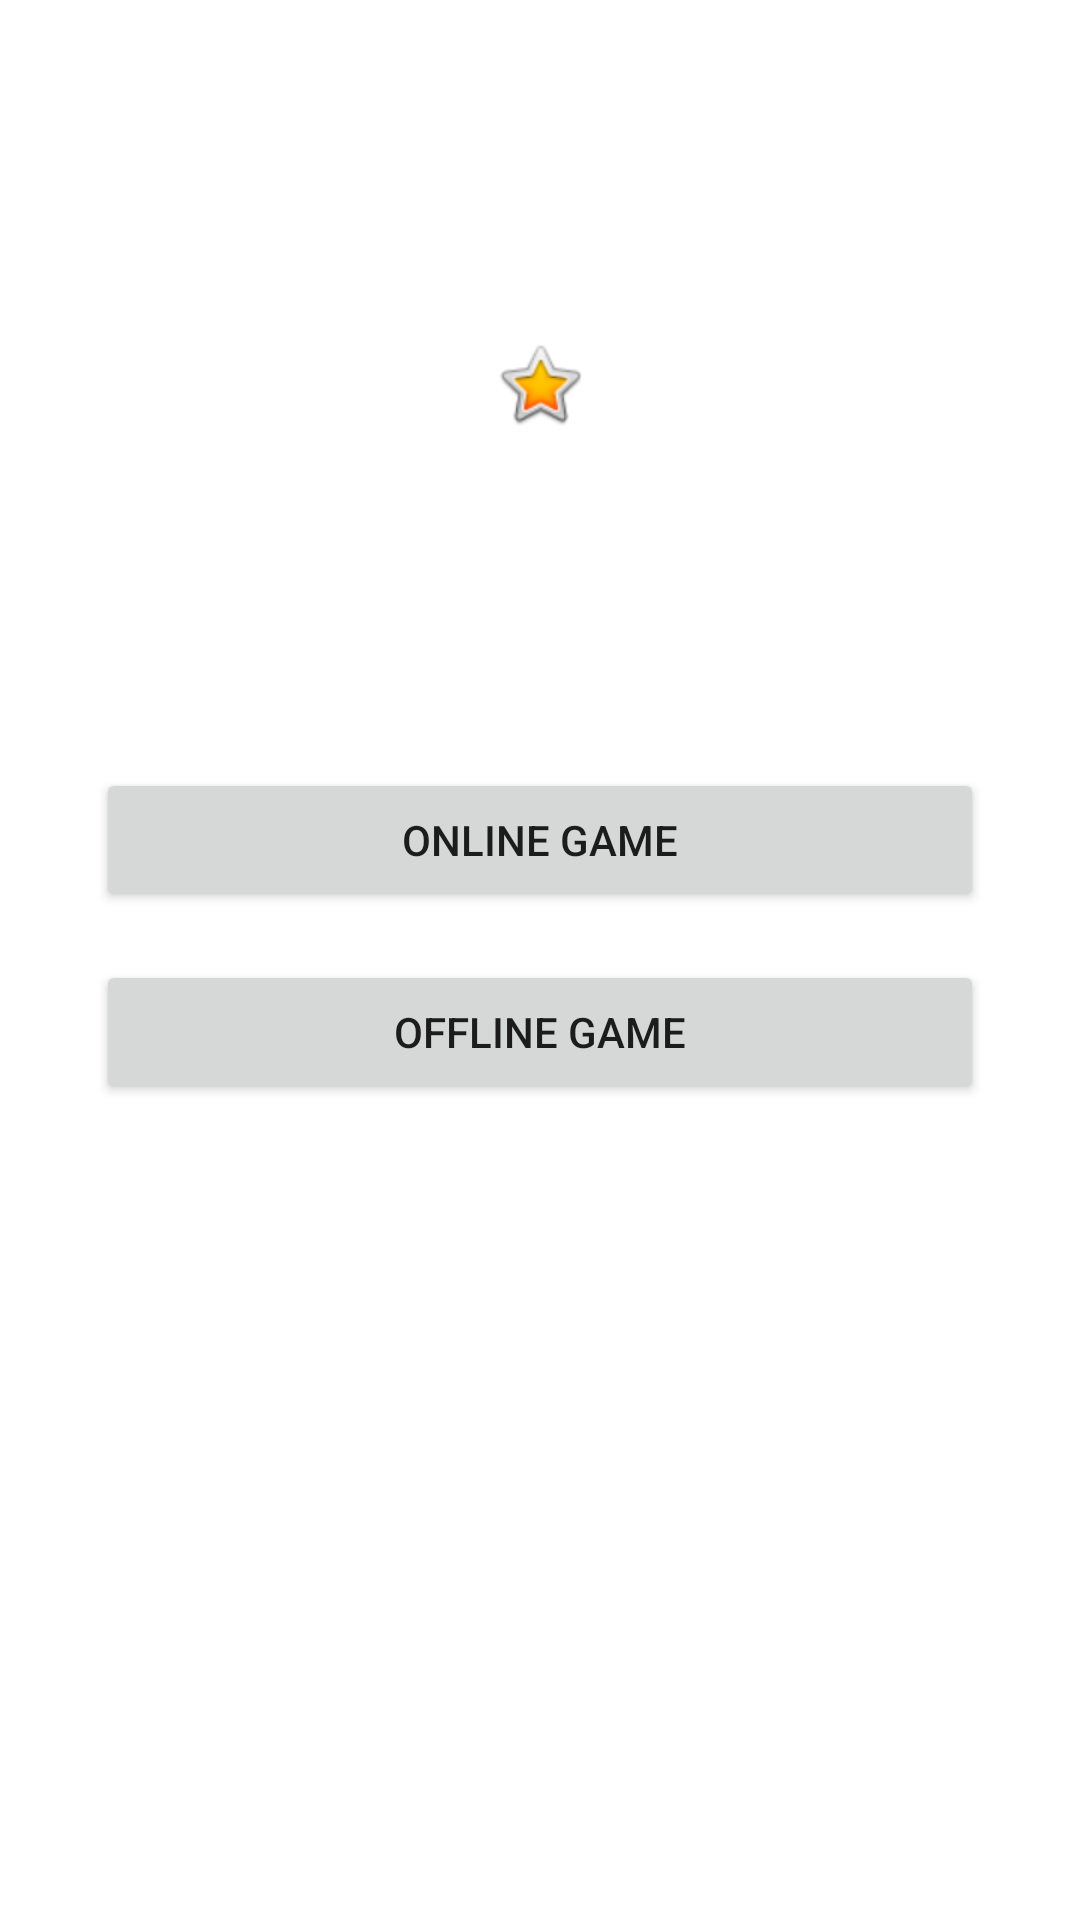

Screen size 1080x1920. Icon name, then its center in pixels as point (x, y):
star on: point (541, 385)
